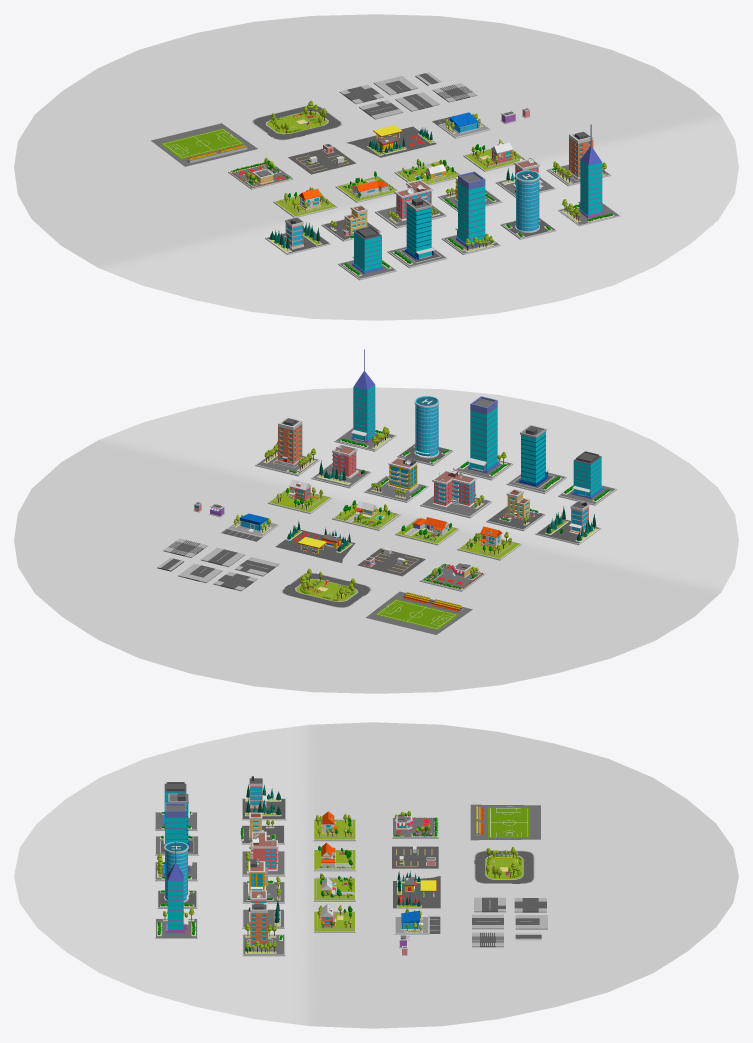
The model's file is Polygonia_Buildings_Low_Poly_Pack.glb.
3 views of the same model, one above another, from view 1: azimuth 30°, elevation 25°; view 2: azimuth 150°, elevation 25°; view 3: azimuth 270°, elevation 25° (orthographic).
Visible parts, largest first — view 1: Disc_World ap_0, Floor_1_World ap_0, Skyscraper_2_World ap_0, Garden_World ap_0, Skyscraper_3_World ap_0, Skyscraper_World ap_0, Round_Building_World ap_0, Skyscraper_4_World ap_0, Floor_2_World ap_0, House_World ap_0, House_4_World ap_0, Floor_5_World ap_0 (+11 smaller); view 2: Disc_World ap_0, Floor_1_World ap_0, Skyscraper_2_World ap_0, Garden_World ap_0, Skyscraper_World ap_0, Round_Building_World ap_0, Skyscraper_3_World ap_0, House_4_World ap_0, Skyscraper_4_World ap_0, House_World ap_0, Floor_2_World ap_0, House_3_World ap_0 (+8 smaller); view 3: Disc_World ap_0, Floor_1_World ap_0, Garden_World ap_0, Skyscraper_World ap_0, Floor_2_World ap_0, Skyscraper_2_World ap_0, Round_Building_World ap_0, House_4_World ap_0, House_World ap_0, Floor_5_World ap_0, Floor_4_2_World ap_0, Floor_1_2_World ap_0 (+9 smaller).
Boxes of the visible parts, <box> form: Disc_World ap_0: <box>14,14,738,320</box>; Floor_1_World ap_0: <box>151,123,257,166</box>; Skyscraper_2_World ap_0: <box>455,171,485,248</box>; Garden_World ap_0: <box>252,105,342,140</box>; Skyscraper_3_World ap_0: <box>405,198,435,259</box>; Skyscraper_World ap_0: <box>578,124,603,217</box>; Round_Building_World ap_0: <box>515,170,540,232</box>; Skyscraper_4_World ap_0: <box>352,226,383,274</box>; Floor_2_World ap_0: <box>287,146,357,174</box>; House_World ap_0: <box>569,130,593,179</box>; House_4_World ap_0: <box>394,179,433,221</box>; Floor_5_World ap_0: <box>273,195,337,217</box>; Disc_World ap_0: <box>14,387,738,693</box>; Floor_1_World ap_0: <box>365,591,472,634</box>; Skyscraper_2_World ap_0: <box>468,396,499,473</box>; Garden_World ap_0: <box>281,573,371,607</box>; Skyscraper_World ap_0: <box>351,349,376,442</box>; Round_Building_World ap_0: <box>414,396,439,458</box>; Skyscraper_3_World ap_0: <box>519,425,549,486</box>; House_4_World ap_0: <box>432,470,476,507</box>; Skyscraper_4_World ap_0: <box>571,451,603,498</box>; House_World ap_0: <box>277,417,302,465</box>; Floor_2_World ap_0: <box>356,547,426,576</box>; House_3_World ap_0: <box>386,457,418,493</box>; Disc_World ap_0: <box>14,722,738,1028</box>; Floor_1_World ap_0: <box>470,804,540,840</box>; Garden_World ap_0: <box>474,850,534,883</box>; Skyscraper_World ap_0: <box>166,841,188,933</box>; Floor_2_World ap_0: <box>391,846,439,868</box>; Skyscraper_2_World ap_0: <box>163,803,191,875</box>; Round_Building_World ap_0: <box>164,841,189,902</box>; House_4_World ap_0: <box>250,831,278,871</box>; House_World ap_0: <box>249,903,271,948</box>; Floor_5_World ap_0: <box>313,819,355,841</box>; Floor_4_2_World ap_0: <box>313,878,355,901</box>; Floor_1_2_World ap_0: <box>392,817,438,838</box>.
Bounding box in the file's own units: 13220 × 1803 × 13220.
2 materials, 2 textured.
